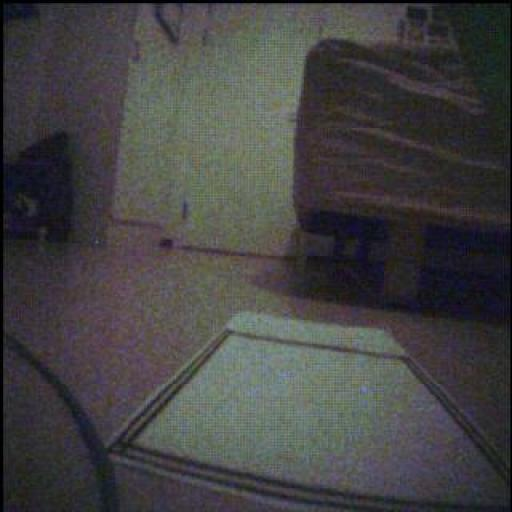pad: (112, 313, 512, 511)
